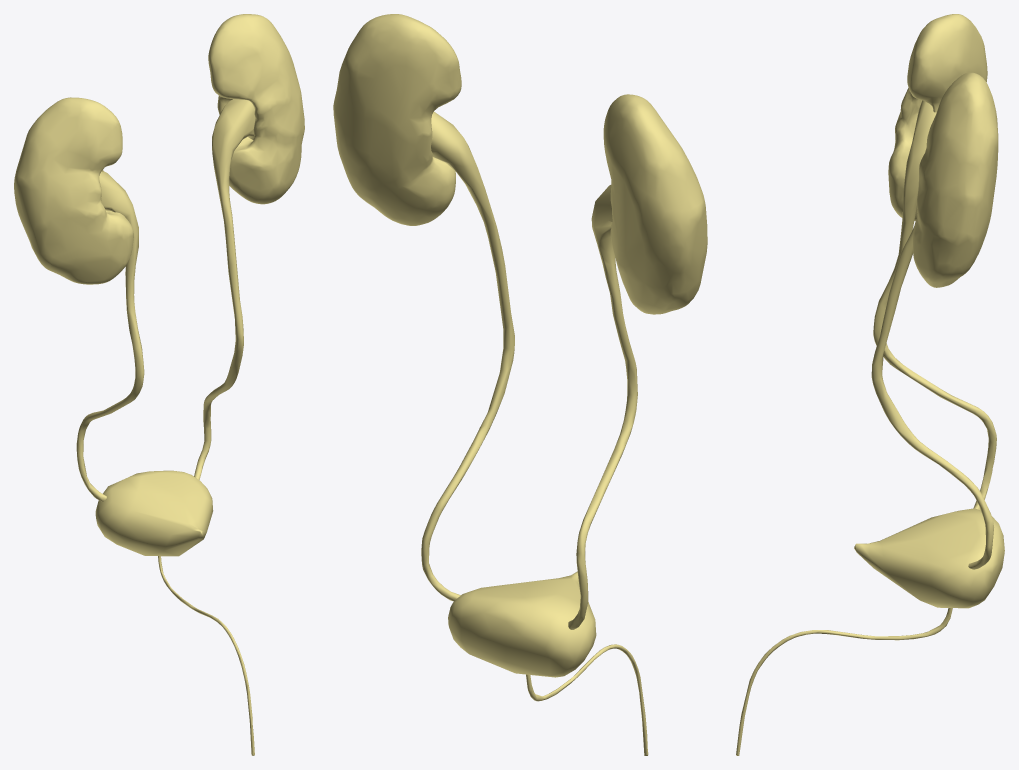
File: urinario.glb
The picture shows the model from 3 angles, left to right: view 1: azimuth 30°, elevation 25°; view 2: azimuth 150°, elevation 25°; view 3: azimuth 270°, elevation 25°; orthographic projection. The views are drawn at different scales.
Visible parts, largest first — view 1: FJ3147, FJ3145, FJ3149, FJ3144, FJ3146, FJ3148; view 2: FJ3145, FJ3147, FJ3149, FJ3144, FJ3146, FJ3148; view 3: FJ3145, FJ3149, FJ3147, FJ3146, FJ3144, FJ3148.
Boxes of the visible parts, <box> form: FJ3147: <box>14,97,133,284</box>; FJ3145: <box>208,14,304,204</box>; FJ3149: <box>95,470,213,556</box>; FJ3144: <box>194,99,255,479</box>; FJ3146: <box>76,171,144,501</box>; FJ3148: <box>158,556,254,755</box>; FJ3145: <box>333,14,461,225</box>; FJ3147: <box>603,94,707,314</box>; FJ3149: <box>448,571,596,677</box>; FJ3144: <box>421,111,514,601</box>; FJ3146: <box>568,185,637,629</box>; FJ3148: <box>526,644,648,755</box>; FJ3145: <box>913,72,998,287</box>; FJ3149: <box>854,508,1004,608</box>; FJ3147: <box>888,14,987,220</box>; FJ3146: <box>873,100,996,510</box>; FJ3144: <box>871,226,993,569</box>; FJ3148: <box>736,608,952,755</box>.
Size of the model in its own units: 0.178 by 0.3819 by 0.1276.
